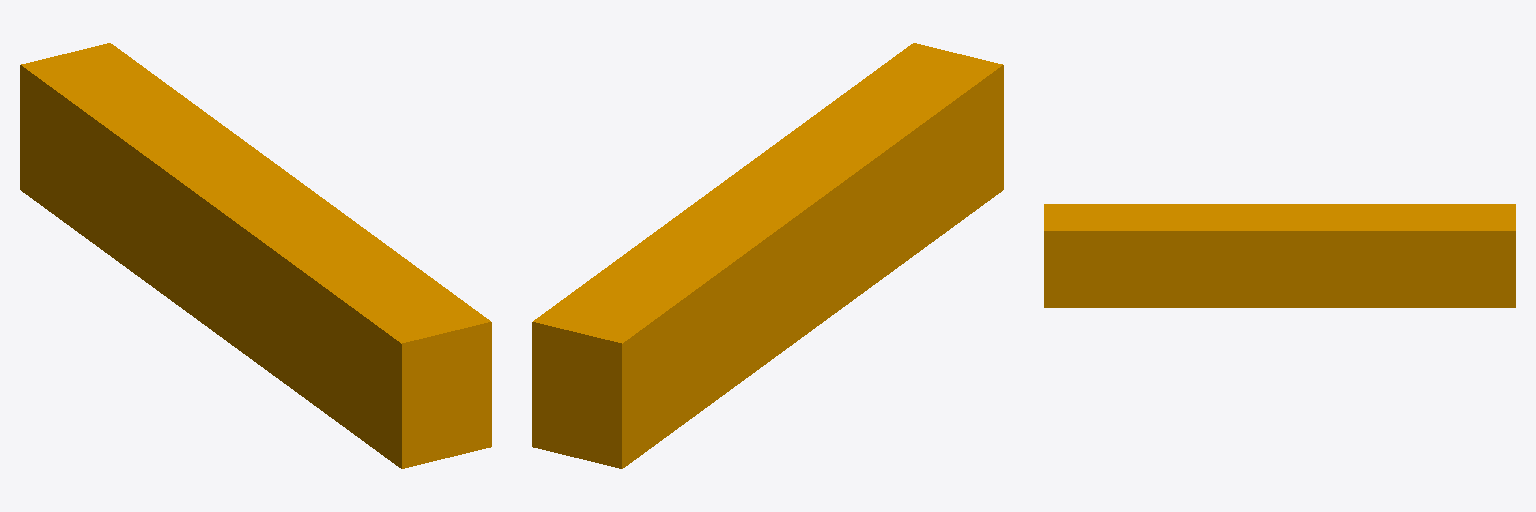
robot.urdf — optotrak:
<?xml version="1.0"?>
<robot
  name="optotrak">
  <link name="optotrak">
    <visual>
      <geometry>
        <box size="0.15 1.10 0.2"/>
      </geometry>
        <origin xyz="0.0 0 0.1"/>
    </visual>
    <collision>
      <geometry>
        <box size="0.15 1.10 0.2"/>
      </geometry>
        <origin xyz="0.0 0 0.1"/>
    </collision>
    <inertial>
      <mass value="0.1"/>
      <inertia ixx="0.01" ixy="0.0" ixz="0.0" iyy="0.01" iyz="0.0" izz="0.01"/>
      <origin xyz="0 0 0"/>
    </inertial>
  </link>
</robot>

--- What the picture shows (computed from the rendered views, not written in the file) ---
3 views of the same robot in one strip: view 1: azimuth 30°, elevation 25°; view 2: azimuth 150°, elevation 25°; view 3: azimuth 270°, elevation 25° (orthographic).
Robot: optotrak — 1 links, 0 joints (none); root link optotrak; default pose: all joints at 0.
Visible links, largest first — view 1: optotrak; view 2: optotrak; view 3: optotrak.
Boxes of the visible links, x1=… form: optotrak: x1=20, y1=43, x2=491, y2=468; optotrak: x1=532, y1=43, x2=1003, y2=468; optotrak: x1=1044, y1=204, x2=1515, y2=307.
Size in the robot's own frame: 0.15 by 1.1 by 0.2 metres.
Geometry: primitives only (box / cylinder / sphere), no mesh files.